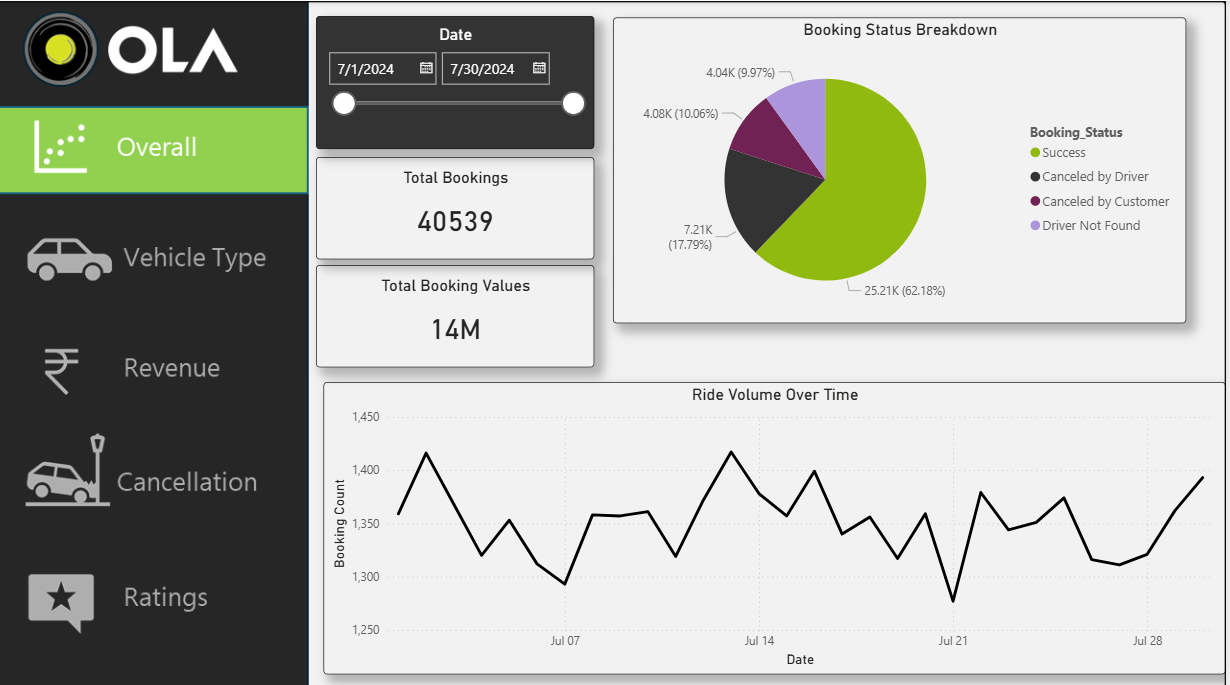

The dashboard page shown, as its layout file describes it:
{"tool":"powerbi","page":{"name":"Overall","canvas":[1280,720],"ordinal":0},"visuals":[{"type":"actionButton","box":[1.6,109.4,320.4,90.7],"z":0},{"type":"actionButton","box":[1.6,326.7,320.4,90.7],"z":1000},{"type":"actionButton","box":[0,565.8,320.4,90.7],"z":2000},{"type":"actionButton","box":[11.6,336.7,320.4,90.7],"z":3000},{"type":"actionButton","box":[0,223.5,320.4,90.7],"z":4000},{"type":"actionButton","box":[0,448.6,320.4,90.7],"z":5000},{"type":"lineChart","title":"Ride Volume Over Time","fields":{"Category":["ola_bookings.Date"],"Y":["CountNonNull(ola_bookings.Booking_ID)"]},"box":[339.4,396.7,940.1,304.3],"z":6000},{"type":"pieChart","title":"Booking Status Breakdown","fields":{"Category":["ola_bookings.Booking_Status"],"Y":["CountNonNull(ola_bookings.Booking_Status)"]},"box":[640.5,17.5,597.5,318.7],"z":7000},{"type":"slicer","title":"Date","fields":{"Values":["ola_bookings.Date"]},"box":[331.4,15.9,290,138.6],"z":8000},{"type":"card","title":"Total Bookings","fields":{"Values":["CountNonNull(ola_bookings.Booking_ID)"]},"box":[331.4,162.5,290,106.8],"z":9000},{"type":"card","title":"Total Booking Values","fields":{"Values":["Sum(ola_bookings.Booking_Value)"]},"box":[331.4,275.7,290,106.8],"z":10000}]}

Visuals, with their boxes in screenshot pixels (x1, y1, x2, y2), scaled from the page's 1280x720 canvas onto the 1230x685 screenshot:
actionButton: {"x1": 2, "y1": 104, "x2": 309, "y2": 190}
actionButton: {"x1": 2, "y1": 311, "x2": 309, "y2": 397}
actionButton: {"x1": 0, "y1": 538, "x2": 308, "y2": 625}
actionButton: {"x1": 11, "y1": 320, "x2": 319, "y2": 407}
actionButton: {"x1": 0, "y1": 213, "x2": 308, "y2": 299}
actionButton: {"x1": 0, "y1": 427, "x2": 308, "y2": 513}
"Ride Volume Over Time" lineChart: {"x1": 326, "y1": 377, "x2": 1229, "y2": 667}
"Booking Status Breakdown" pieChart: {"x1": 615, "y1": 17, "x2": 1190, "y2": 320}
"Date" slicer: {"x1": 318, "y1": 15, "x2": 597, "y2": 147}
"Total Bookings" card: {"x1": 318, "y1": 155, "x2": 597, "y2": 256}
"Total Booking Values" card: {"x1": 318, "y1": 262, "x2": 597, "y2": 364}
